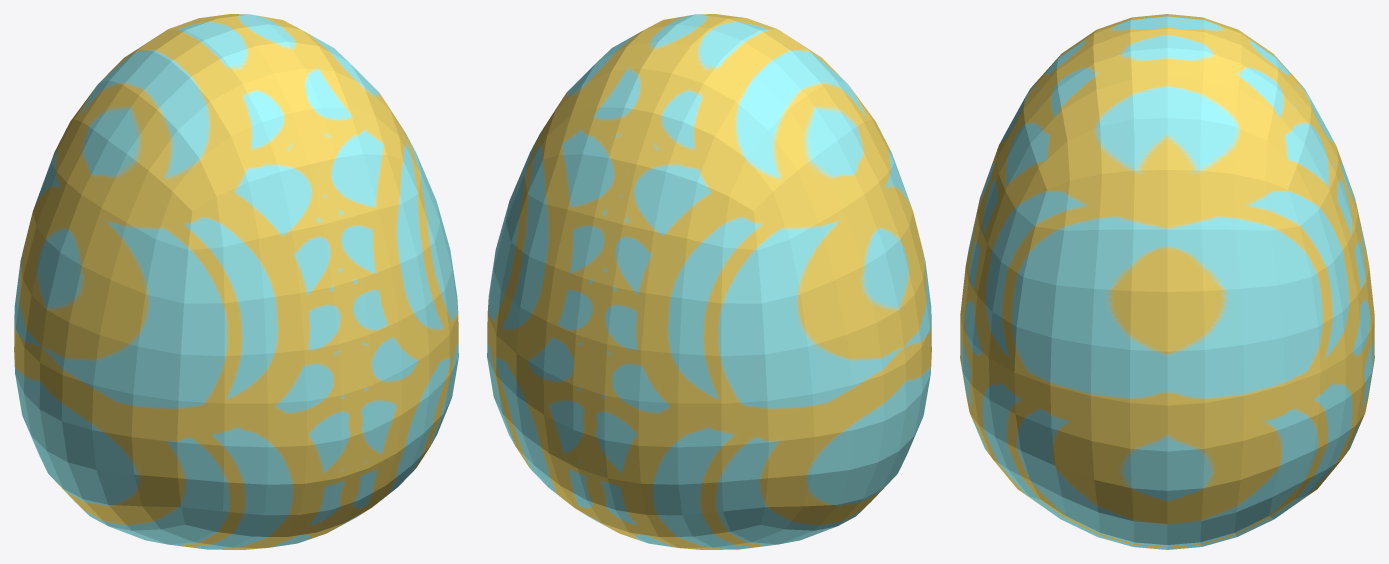
File: Egg_Yellow_Blue.fbx
3 views of the same model, side by side, from view 1: azimuth 30°, elevation 25°; view 2: azimuth 150°, elevation 25°; view 3: azimuth 270°, elevation 25° (orthographic).
Visible parts, largest first — view 1: Egg; view 2: Egg; view 3: Egg.
Part boxes in pixels (<box>): Egg: <box>14,14,458,549</box>; Egg: <box>487,14,931,549</box>; Egg: <box>960,14,1374,549</box>.
Bounding box in the file's own units: 210 × 256 × 195.
1 material, 1 textured.
